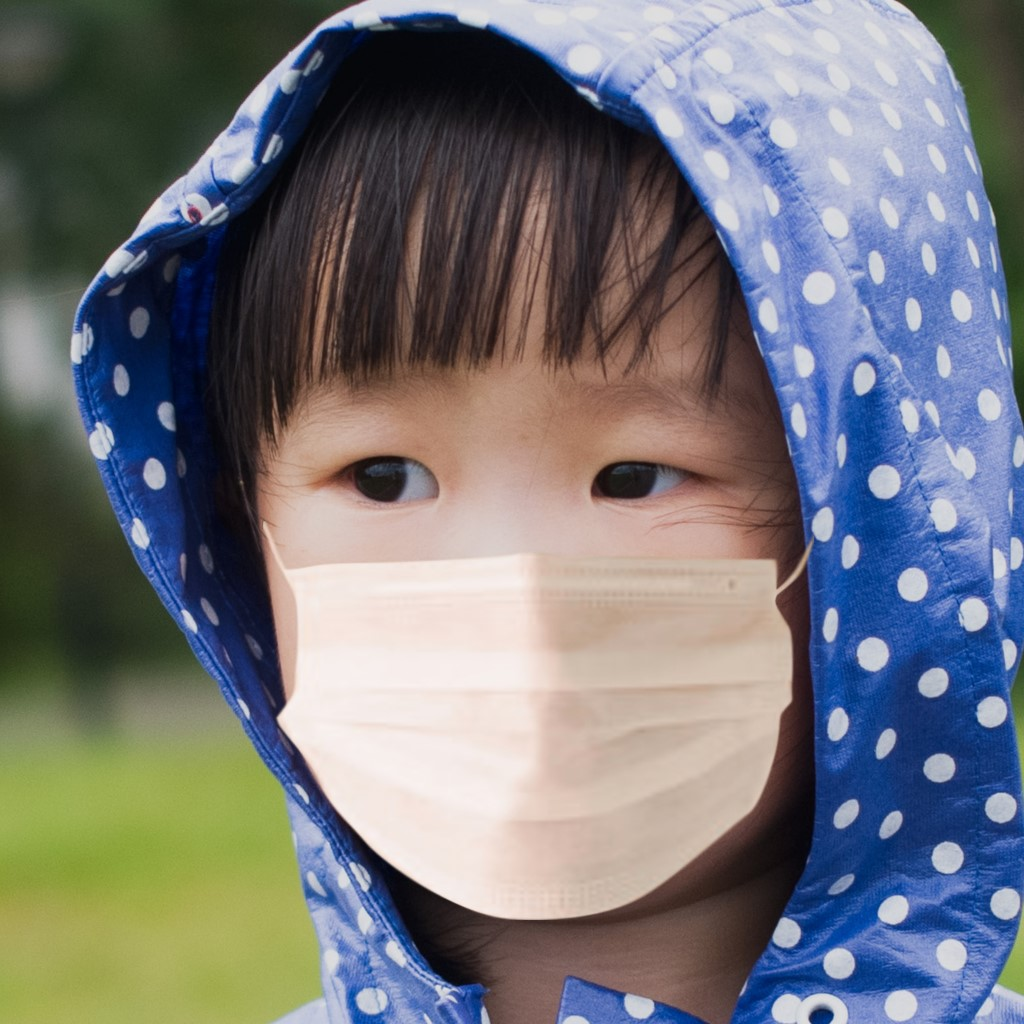con_mascara: (224, 151, 838, 928)
